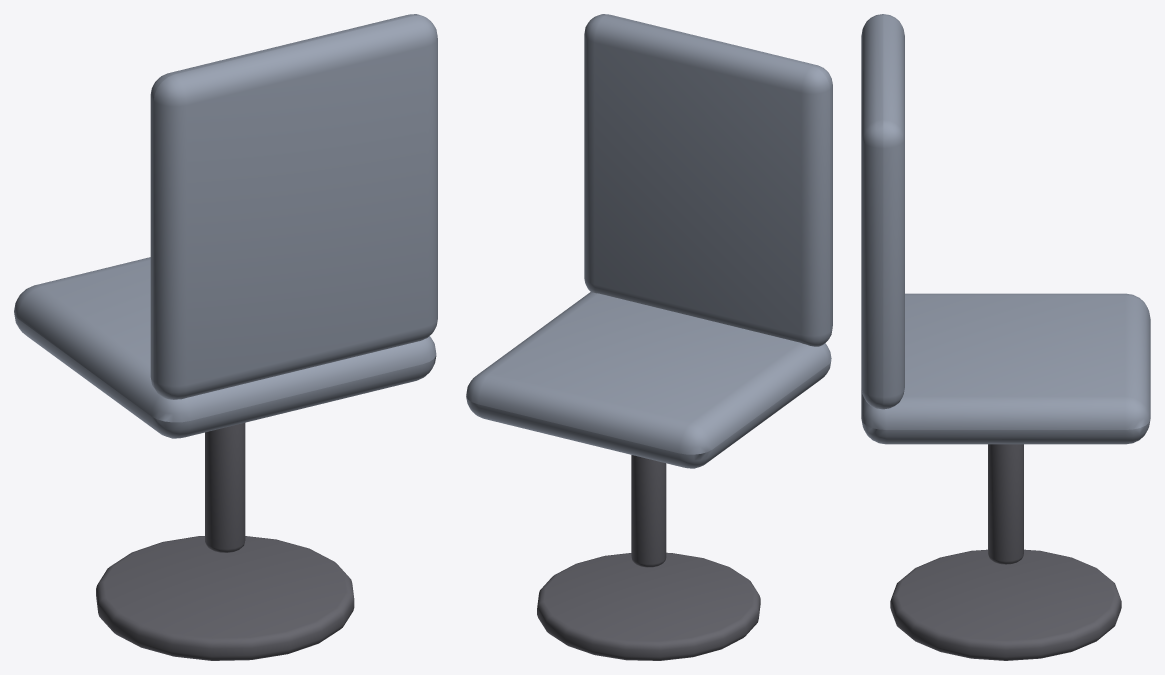
Rendered from office_chair.glb.
3 renders of one model, left to right at view 1: azimuth 30°, elevation 25°; view 2: azimuth 150°, elevation 25°; view 3: azimuth 270°, elevation 25°, orthographic. The views are drawn at different scales.
Parts seen in each view (by area): view 1: Back, BaseDisc, Seat, Pole; view 2: Back, Seat, BaseDisc, Pole; view 3: Seat, BaseDisc, Back, Pole.
Boxes of the visible parts, <box> form: Back: <box>150,14,437,399</box>; BaseDisc: <box>96,536,354,660</box>; Seat: <box>14,257,436,438</box>; Pole: <box>205,423,245,552</box>; Back: <box>584,14,832,346</box>; Seat: <box>466,292,831,468</box>; BaseDisc: <box>537,552,760,660</box>; Pole: <box>631,455,666,567</box>; Seat: <box>861,293,1150,444</box>; BaseDisc: <box>890,549,1121,660</box>; Back: <box>861,14,904,409</box>; Pole: <box>988,444,1023,564</box>.
Bounding box in the file's own units: 0.4 × 0.835 × 0.4.
